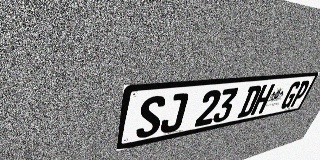2: (194, 89, 223, 127)
3: (211, 88, 239, 123)
D: (237, 85, 263, 118)
G: (279, 81, 302, 109)
H: (250, 84, 275, 116)
J: (159, 93, 189, 134)
P: (289, 80, 311, 107)
S: (135, 95, 167, 139)
